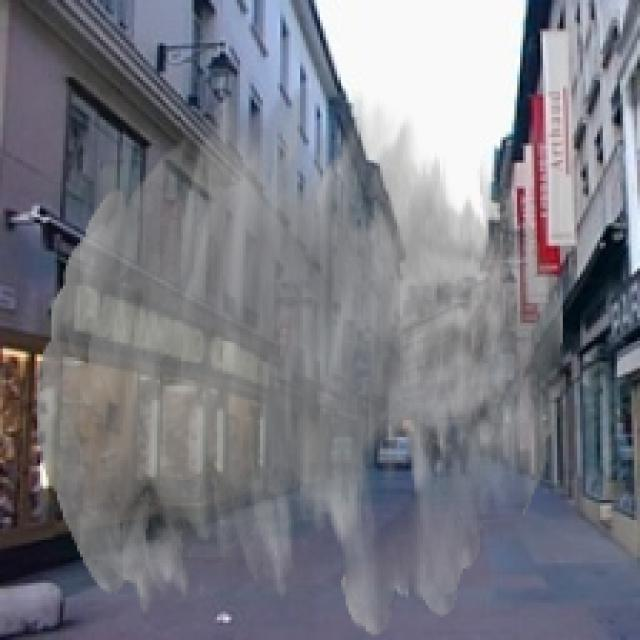Smoke: (37, 88, 566, 638)
